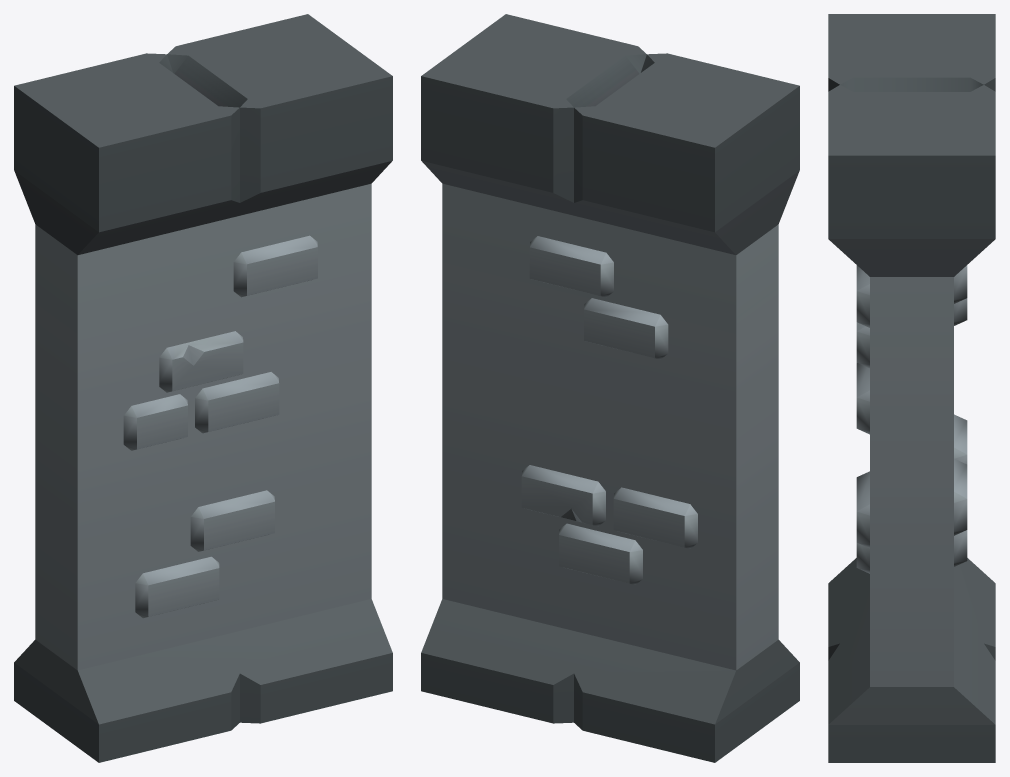
The model's file is wall_half.glb.
The picture shows the model from 3 angles, left to right: view 1: azimuth 30°, elevation 25°; view 2: azimuth 150°, elevation 25°; view 3: azimuth 270°, elevation 25°; orthographic projection.
Parts seen in each view (by area): view 1: wall_half; view 2: wall_half; view 3: wall_half.
Boxes of the visible parts, x1,y1,x2,y2 form: wall_half: [14, 14, 392, 762]; wall_half: [421, 14, 799, 762]; wall_half: [828, 14, 995, 762].
Size of the model in its own units: 2 by 4 by 1.
Materials: 1 (1 with a texture image).
